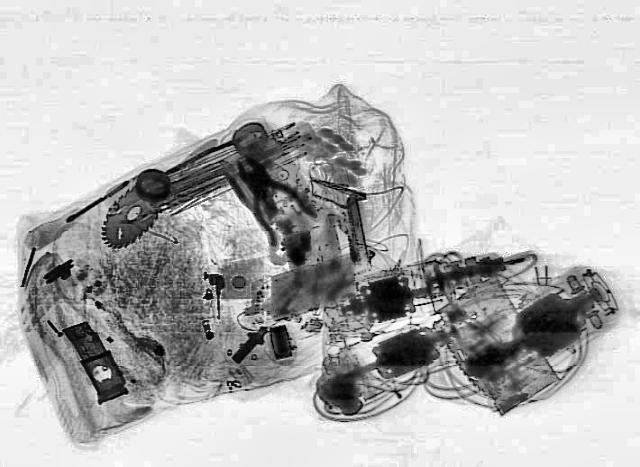Pliers: (211, 149, 331, 247)
